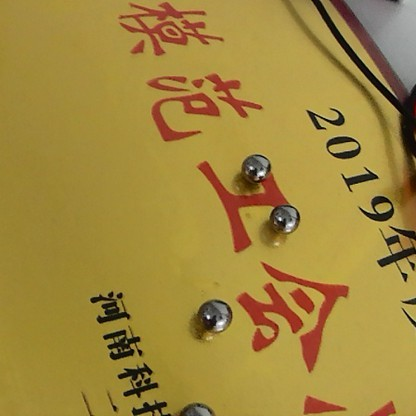ironball: (191, 294, 235, 333), (264, 201, 303, 237), (241, 146, 269, 183), (171, 399, 221, 414)
